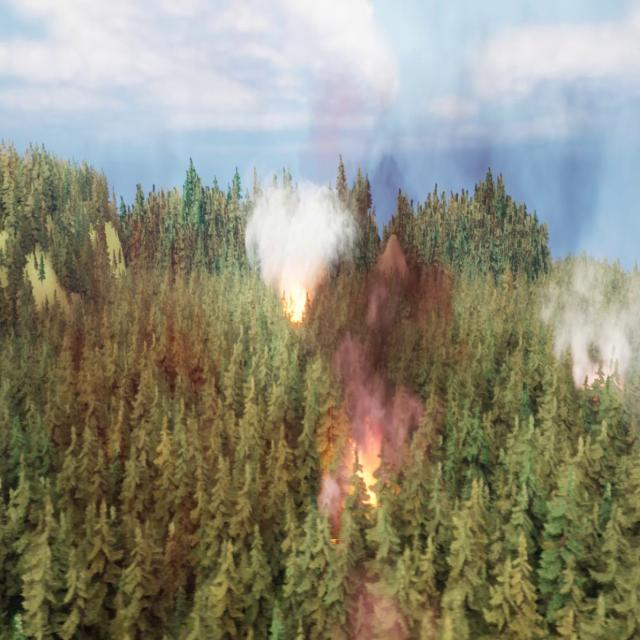fire: (351, 433, 386, 507), (283, 274, 312, 325)
smoke: (234, 39, 615, 532), (544, 252, 640, 413)
